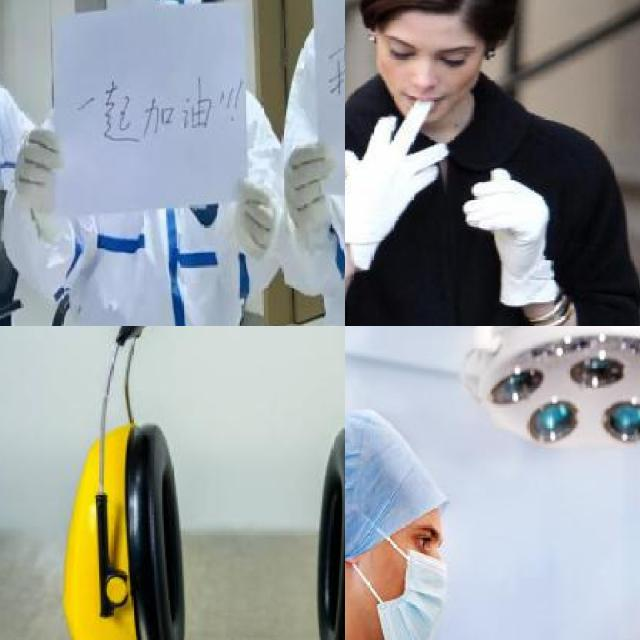Ear-protection: (73, 326, 345, 640)
No_Glasses: (373, 23, 473, 83)
face_mask: (345, 508, 461, 640)
face_nomask: (371, 20, 484, 133)
hand_glove: (345, 119, 449, 250), (464, 167, 550, 276), (282, 141, 336, 236), (14, 125, 63, 201), (237, 178, 275, 262)
head_nohelmet: (345, 0, 522, 50)
person: (345, 0, 640, 326), (1, 0, 293, 326), (345, 394, 640, 640), (274, 0, 345, 326)
